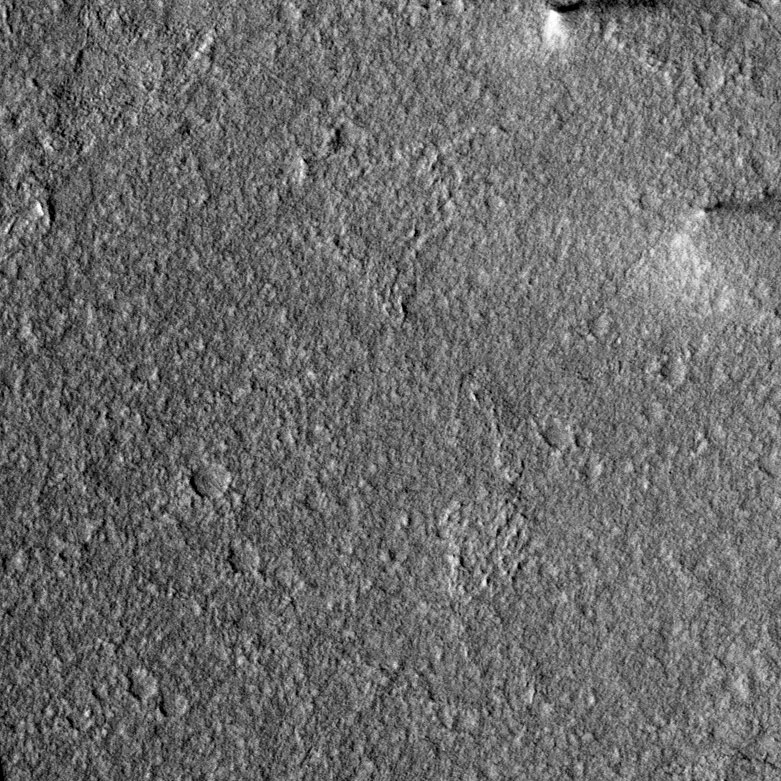dust_devil: (662, 187, 778, 278), (540, 1, 656, 54)
